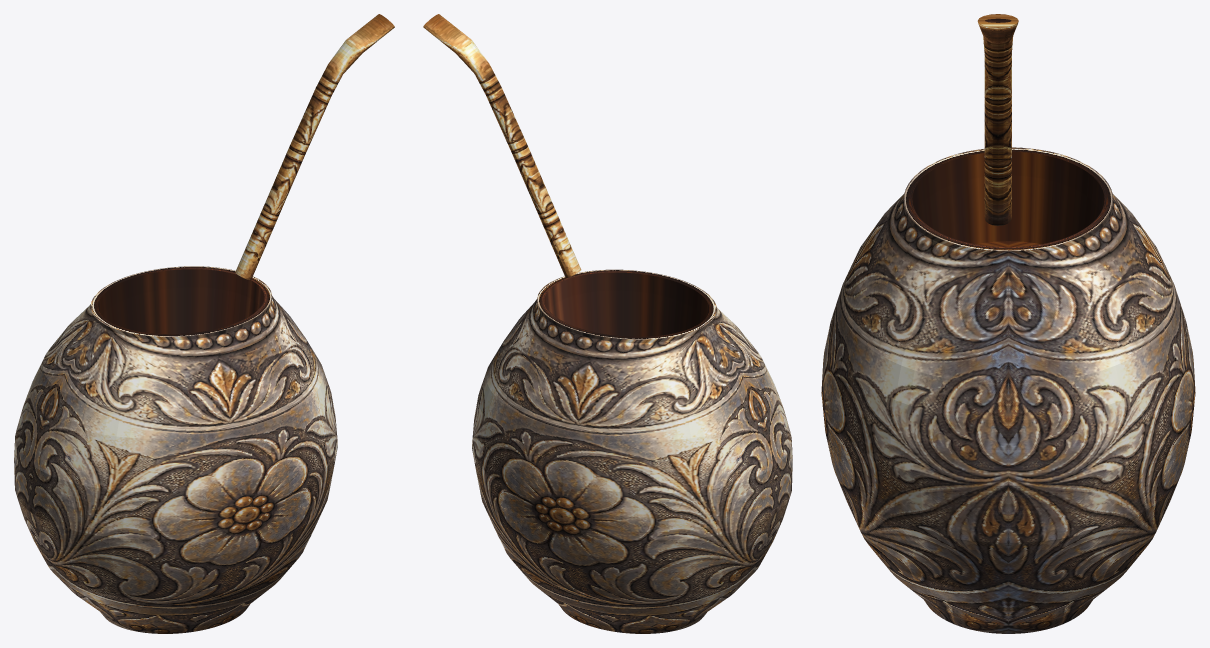
Rendered from silver.obj.
3 renders of one model, left to right at view 1: azimuth 30°, elevation 25°; view 2: azimuth 150°, elevation 25°; view 3: azimuth 270°, elevation 25°, orthographic. The views are drawn at different scales.
Visible parts, largest first — view 1: closed_porongo_shell, fixed_bronze_bombilla; view 2: closed_porongo_shell, fixed_bronze_bombilla; view 3: closed_porongo_shell, fixed_bronze_bombilla.
Part boxes in pixels (box(x1,y1,x2,y2)): closed_porongo_shell: box(14, 266, 337, 633); fixed_bronze_bombilla: box(235, 14, 394, 280); closed_porongo_shell: box(472, 269, 792, 633); fixed_bronze_bombilla: box(423, 14, 581, 277); closed_porongo_shell: box(821, 147, 1195, 633); fixed_bronze_bombilla: box(977, 14, 1018, 225).
Size of the model in its own units: 13.1 by 19.31 by 9.13.
Materials: 1 (1 with a texture image).
